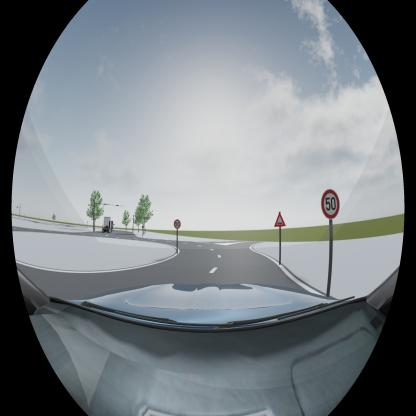Speed Limit 50: (321, 189, 340, 219), (174, 220, 180, 228)
